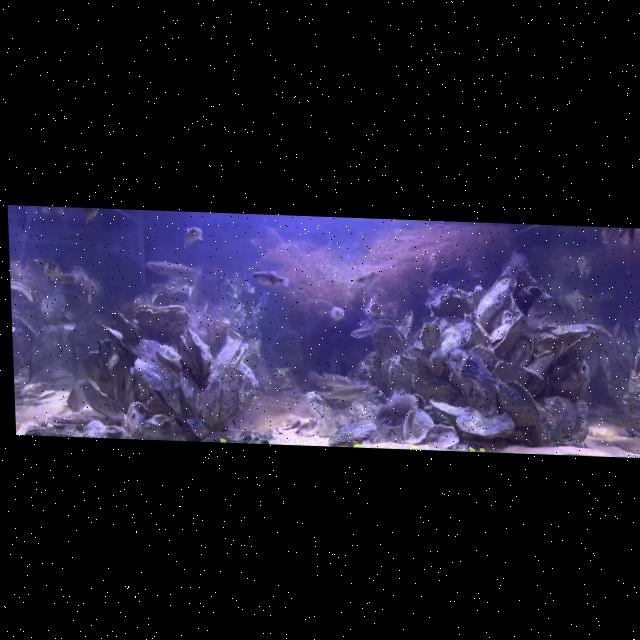Oyster-Closed: (133, 340, 184, 423), (445, 346, 500, 416), (428, 318, 473, 378), (474, 273, 518, 329), (455, 410, 516, 441), (490, 310, 526, 358), (538, 395, 579, 437), (221, 366, 246, 428), (532, 403, 564, 447), (198, 372, 224, 426), (179, 369, 204, 422), (50, 407, 109, 429), (429, 398, 482, 422), (462, 311, 493, 348), (411, 379, 459, 402), (101, 324, 130, 353)
Oyster-Indeterminate: (28, 322, 63, 379), (79, 350, 116, 400), (558, 329, 598, 369), (534, 322, 599, 345), (430, 288, 475, 321), (237, 363, 259, 421), (112, 310, 144, 348), (504, 328, 536, 365), (12, 316, 37, 361), (76, 378, 109, 412), (469, 342, 500, 375), (494, 359, 529, 386), (425, 424, 461, 450), (151, 285, 189, 309), (525, 348, 556, 377), (126, 402, 149, 439), (418, 321, 441, 352), (398, 356, 430, 376)
Oyster-Open: (493, 375, 541, 428), (135, 303, 190, 337), (369, 316, 409, 358), (180, 328, 214, 377), (401, 409, 436, 445), (214, 337, 249, 371), (10, 280, 39, 310)
